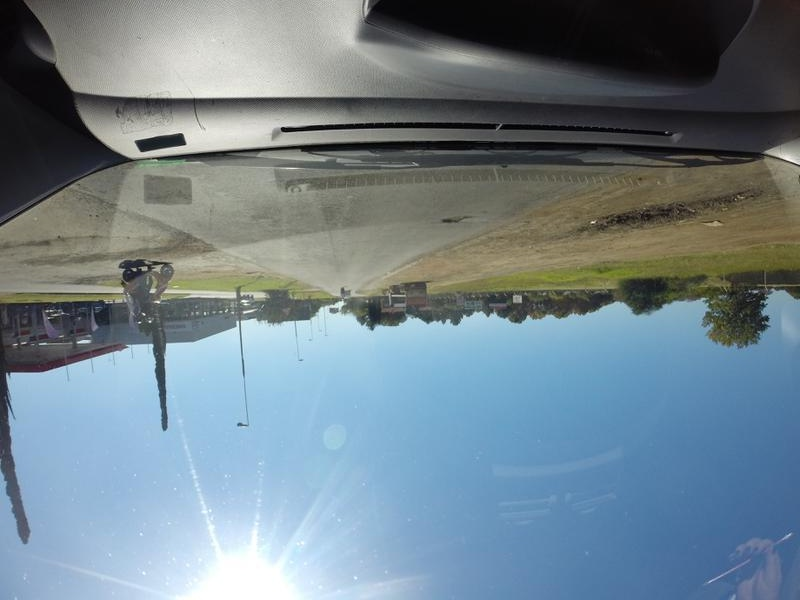pothole: (429, 215, 473, 223)
